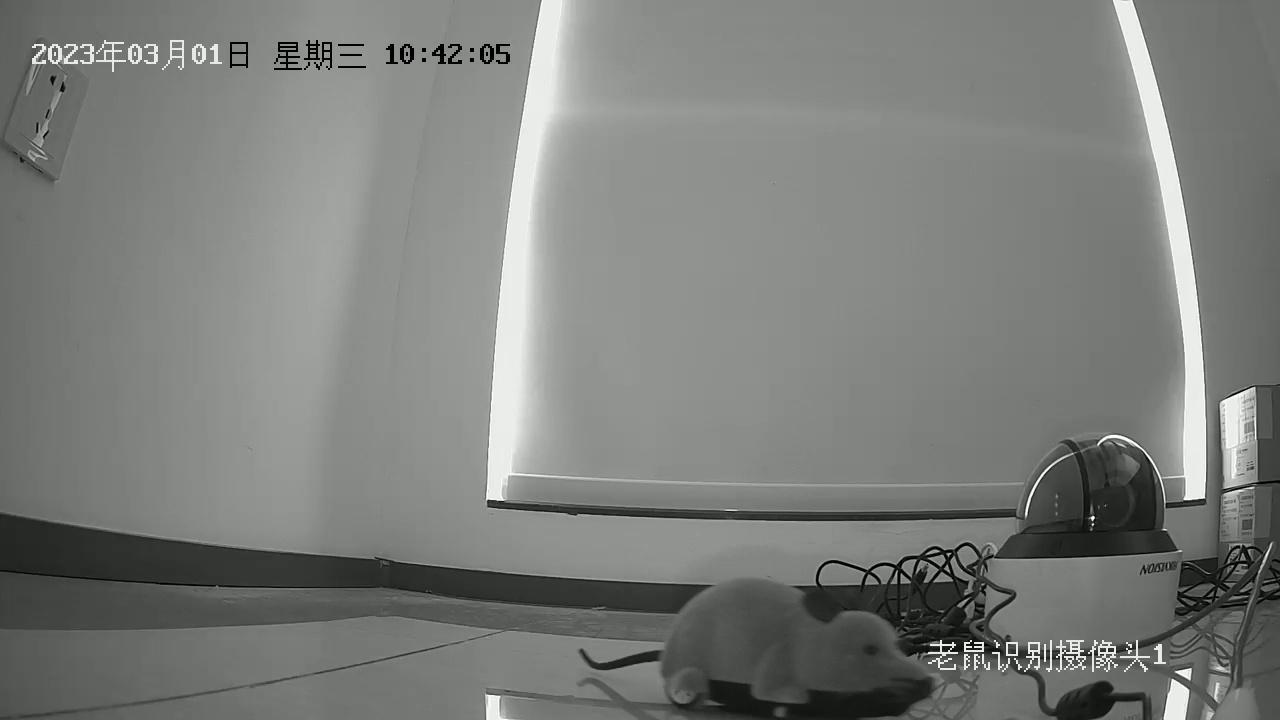rat: (580, 576, 935, 719)
